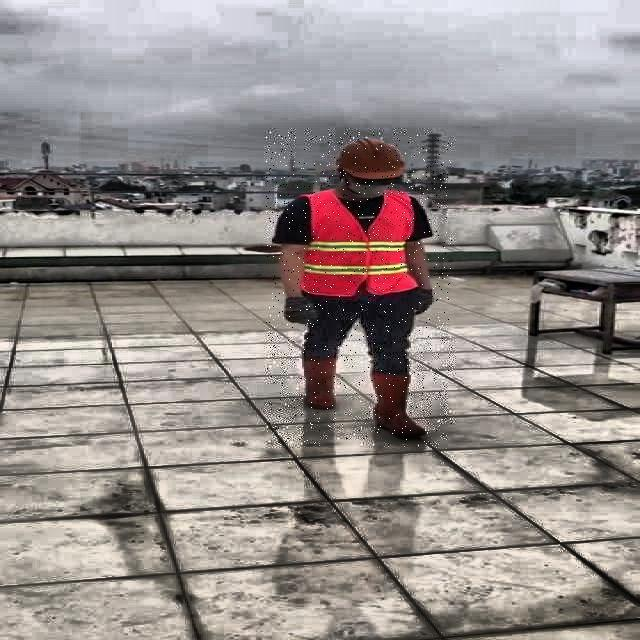safety_helmet: (332, 136, 409, 180)
safety_jacket: (300, 193, 420, 295)
